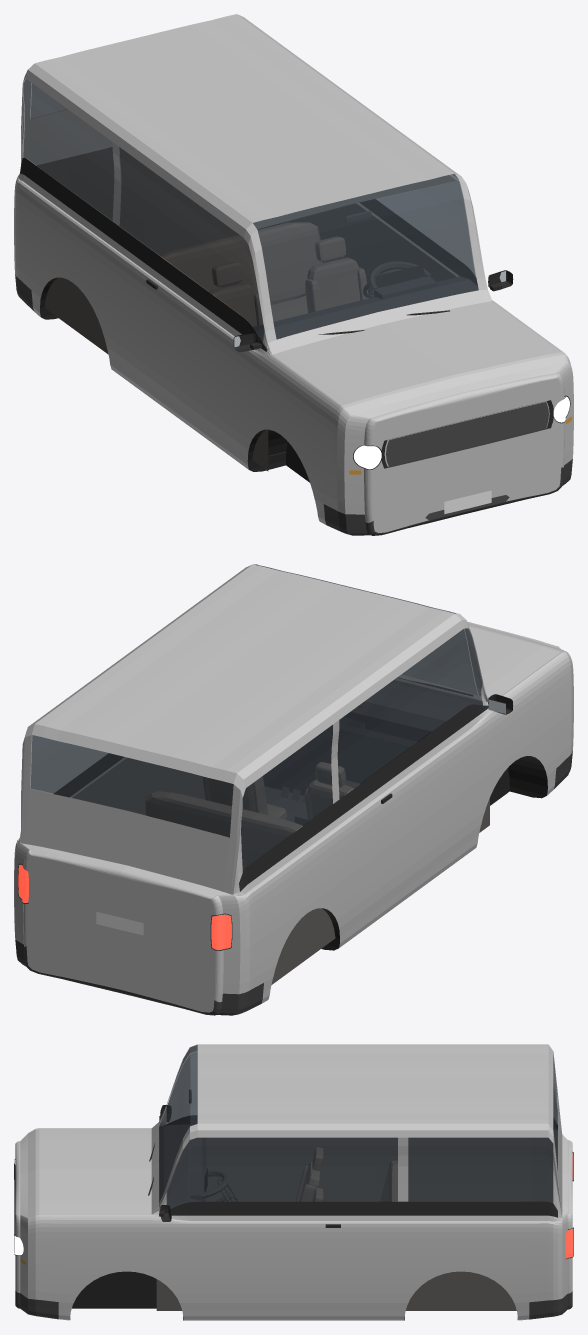
Rendered from car_behemoth.fbx.
3 renders of one model, top to bottom at view 1: azimuth 30°, elevation 25°; view 2: azimuth 150°, elevation 25°; view 3: azimuth 270°, elevation 25°, orthographic. The views are drawn at different scales.
Visible parts, largest first — view 1: behemoth__roof, behemoth__glass, behemoth__hood, behemoth__cabin, behemoth__doorR, behemoth__fascia, behemoth__seats, behemoth__quarterR, behemoth__fenderFR, behemoth__trunk, behemoth__seals, behemoth__pillars (+6 smaller); view 2: behemoth__roof, behemoth__glass, behemoth__rearPanel, behemoth__doorR, behemoth__trunk, behemoth__quarterR, behemoth__interior, behemoth__seats, behemoth__fenderFR, behemoth__cabin, behemoth__hood, behemoth__seals (+6 smaller); view 3: behemoth__roof, behemoth__glass, behemoth__cabin, behemoth__doorL, behemoth__quarterL, behemoth__hood, behemoth__fenderFL, behemoth__seals, behemoth__pillars, behemoth__interior, behemoth__wells, behemoth__trunk (+3 smaller).
Boxes of the visible parts, box(x1,y1,x2,y2) form: behemoth__roof: box(28, 14, 460, 228); behemoth__glass: box(23, 79, 477, 341); behemoth__hood: box(271, 300, 567, 423); behemoth__cabin: box(36, 147, 456, 471); behemoth__doorR: box(121, 250, 263, 469); behemoth__fascia: box(364, 374, 564, 532); behemoth__seats: box(159, 222, 368, 326); behemoth__quarterR: box(14, 173, 127, 378); behemoth__fenderFR: box(258, 350, 368, 524); behemoth__trunk: box(21, 109, 492, 354); behemoth__seals: box(20, 158, 477, 351); behemoth__pillars: box(21, 70, 487, 349); behemoth__roof: box(25, 564, 461, 789); behemoth__glass: box(30, 565, 482, 870); behemoth__rearPanel: box(23, 851, 223, 1012); behemoth__doorR: box(350, 709, 492, 937); behemoth__trunk: box(20, 674, 488, 901); behemoth__quarterR: box(219, 810, 356, 1003); behemoth__interior: box(263, 680, 482, 825); behemoth__seats: box(144, 762, 353, 871); behemoth__fenderFR: box(487, 652, 573, 795); behemoth__cabin: box(72, 758, 489, 984); behemoth__hood: box(403, 621, 567, 698); behemoth__seals: box(53, 704, 488, 891); behemoth__roof: box(197, 1044, 553, 1135); behemoth__glass: box(159, 1045, 557, 1208); behemoth__cabin: box(156, 1050, 557, 1310); behemoth__doorL: box(162, 1215, 382, 1320); behemoth__quarterL: box(382, 1215, 567, 1320); behemoth__hood: box(15, 1128, 151, 1218); behemoth__fenderFL: box(20, 1215, 162, 1320); behemoth__seals: box(159, 1115, 557, 1217); behemoth__pillars: box(159, 1044, 557, 1213); behemoth__interior: box(159, 1089, 228, 1208); behemoth__wells: box(70, 1271, 517, 1320); behemoth__trunk: box(151, 1096, 572, 1218).
Size of the model in its own units: 2.53 by 2.13 by 5.52.
